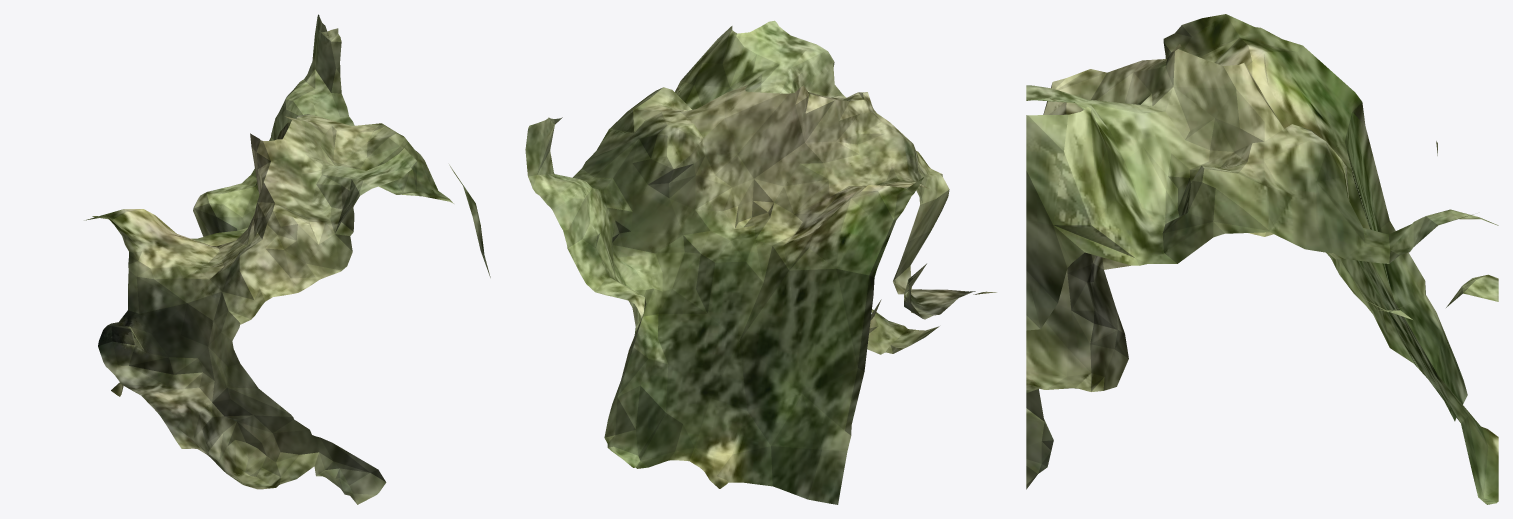
The picture shows the model from 3 angles, left to right: view 1: azimuth 30°, elevation 25°; view 2: azimuth 150°, elevation 25°; view 3: azimuth 270°, elevation 25°; orthographic projection. The views are drawn at different scales.
Size of the model in its own units: 2.95 by 2.95 by 2.95.
Materials: 5 (5 with a texture image).
